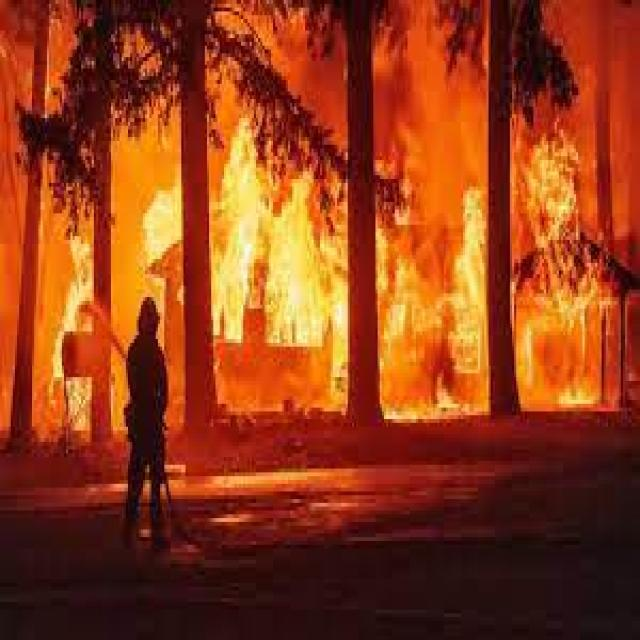Fire: (222, 142, 350, 406), (378, 198, 514, 420), (518, 136, 612, 428)
